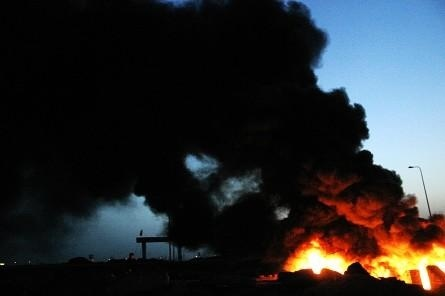fire: (285, 207, 444, 284)
